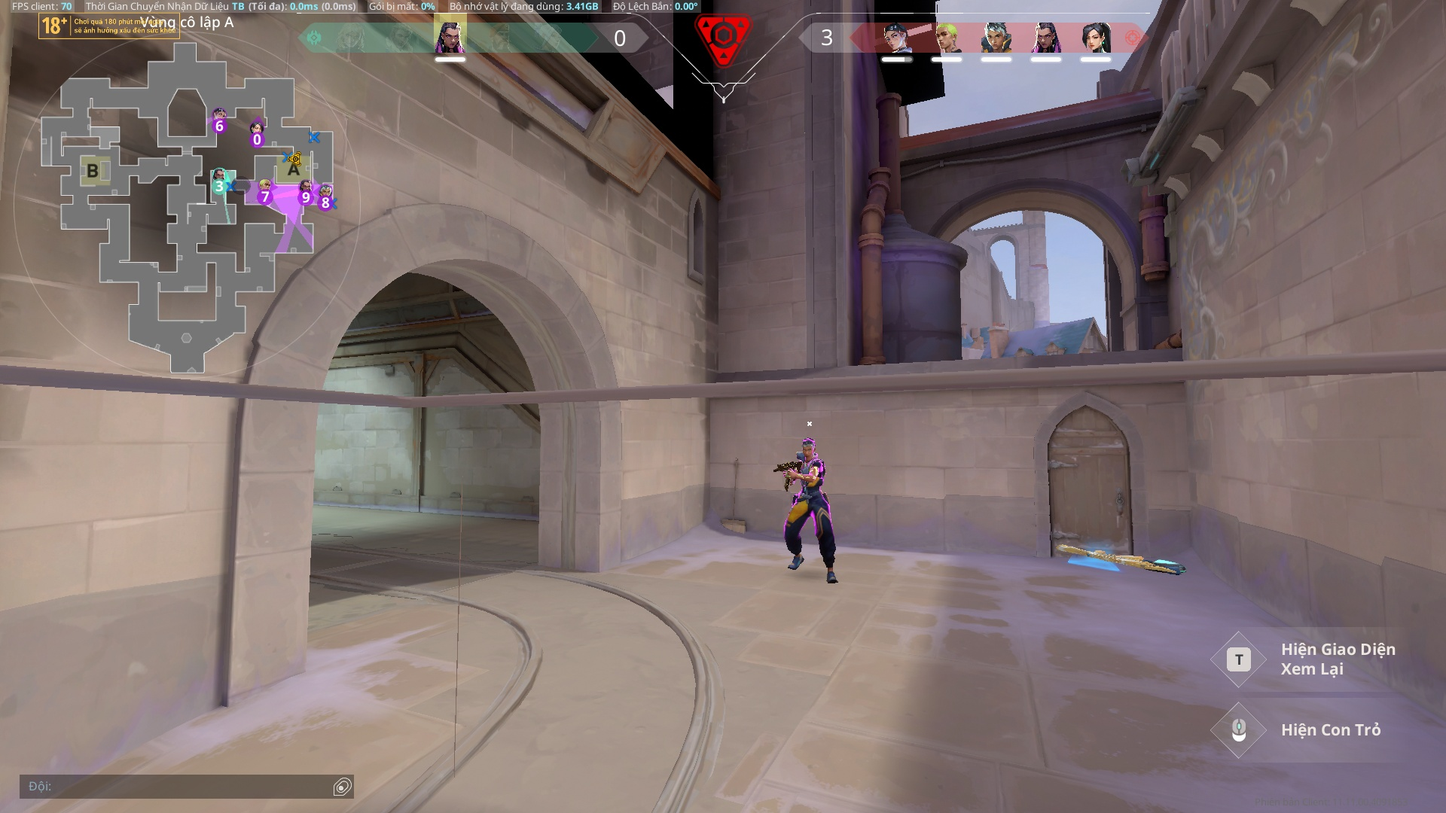body: (793, 452, 828, 495)
head: (801, 435, 817, 456)
